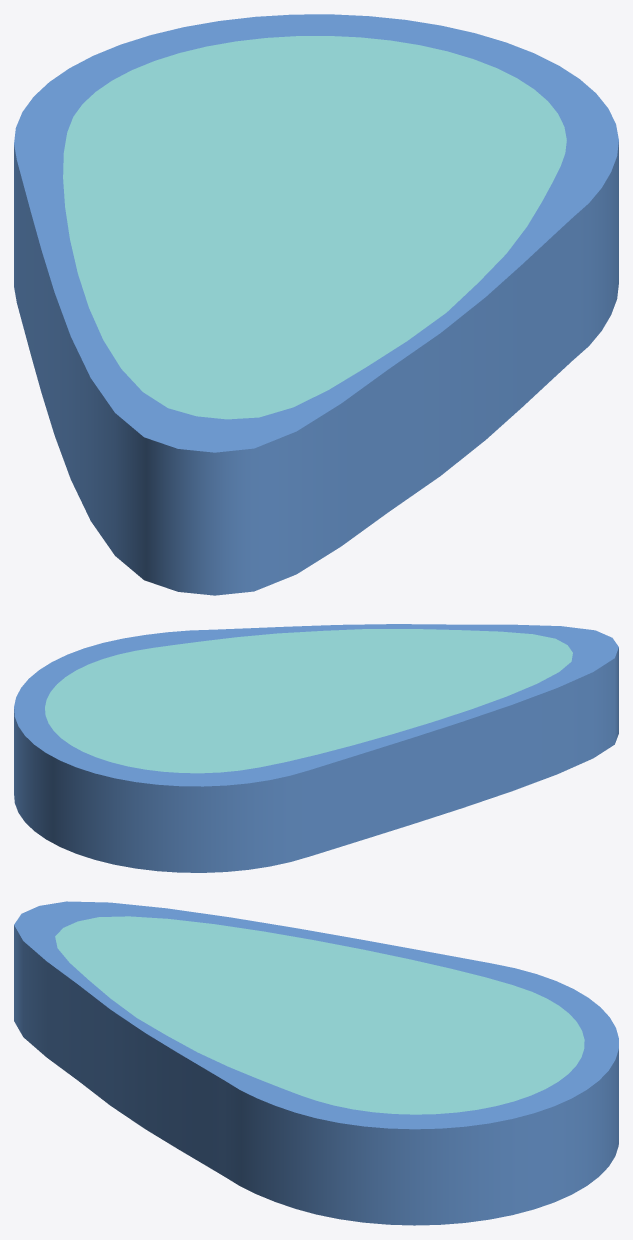
The model's file is vacuoleFBX.fbx.
3 renders of one model, top to bottom at view 1: azimuth 30°, elevation 25°; view 2: azimuth 150°, elevation 25°; view 3: azimuth 270°, elevation 25°, orthographic. The views are drawn at different scales.
Parts seen in each view (by area): view 1: pCylinder2; view 2: pCylinder2; view 3: pCylinder2.
Boxes of the visible parts, x1=… form: pCylinder2: x1=14, y1=14, x2=618, y2=595; pCylinder2: x1=14, y1=624, x2=618, y2=872; pCylinder2: x1=14, y1=901, x2=618, y2=1225.
Size of the model in its own units: 52.8 by 10.4 by 59.25.
